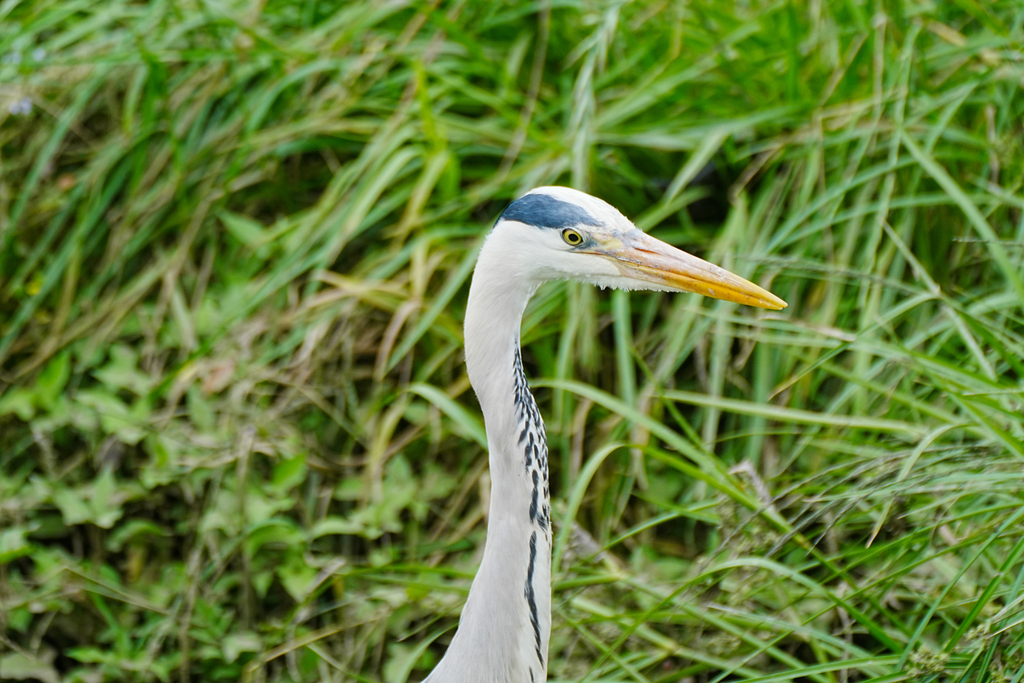heron: (409, 178, 794, 683)
